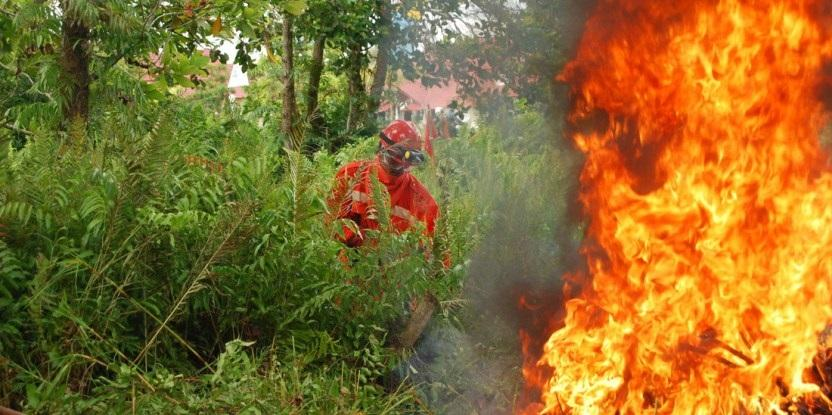fire: (603, 13, 821, 393)
